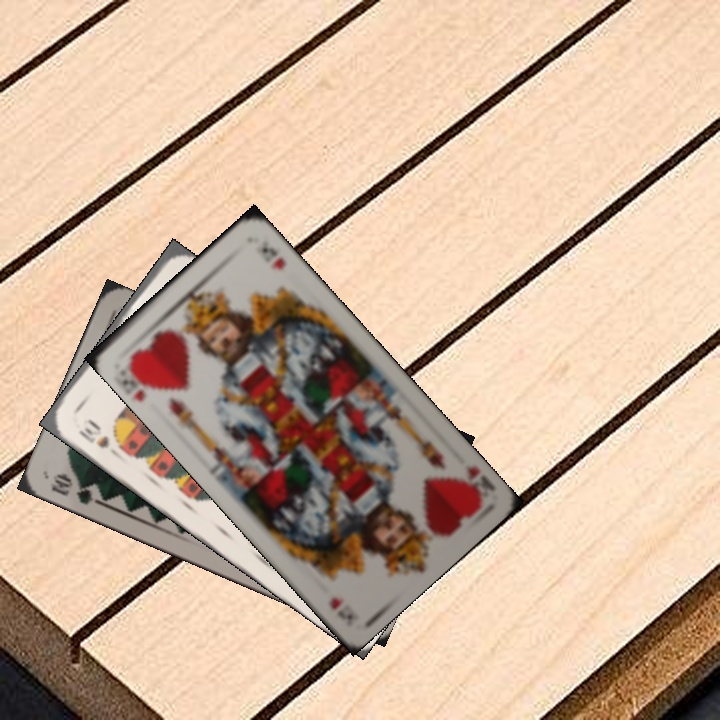G10: (47, 469, 105, 508)
HK: (124, 357, 157, 404), (460, 461, 498, 494)
S10: (74, 417, 121, 459)
